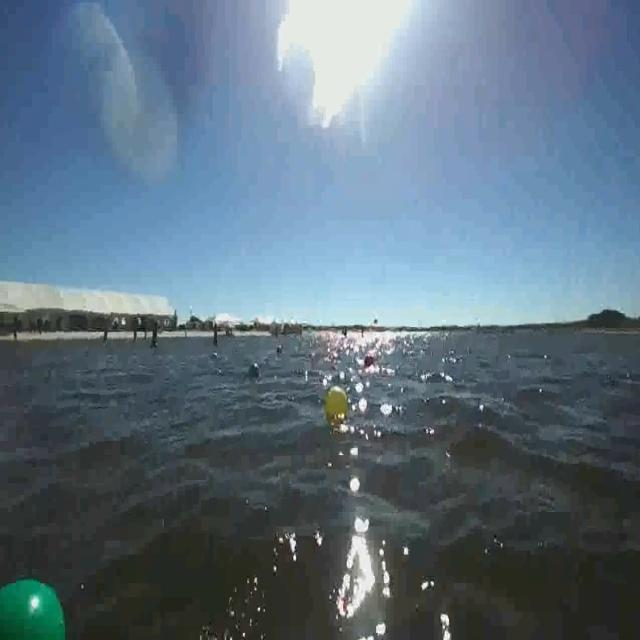green-buoy: (1, 570, 74, 640)
yellow-buoy: (327, 384, 350, 428)
